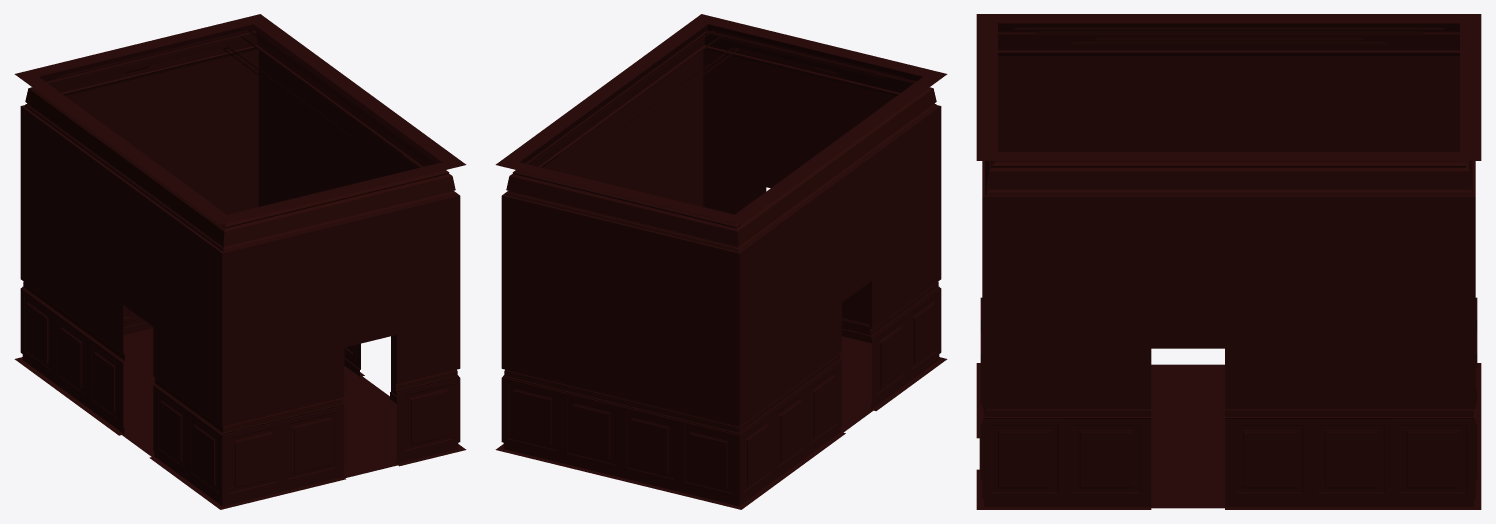
File: 3door_1.FBX
3 renders of one model, left to right at view 1: azimuth 30°, elevation 25°; view 2: azimuth 150°, elevation 25°; view 3: azimuth 270°, elevation 25°, orthographic. The views are drawn at different scales.
Parts seen in each view (by area): view 1: walls, floor, ceiling; view 2: walls, floor, ceiling; view 3: walls, floor, ceiling.
Part boxes in pixels (<box>): walls: <box>14,14,466,509</box>; floor: <box>19,328,461,508</box>; ceiling: <box>56,30,424,159</box>; walls: <box>495,14,947,509</box>; floor: <box>500,336,942,508</box>; ceiling: <box>537,30,905,159</box>; walls: <box>976,14,1481,509</box>; floor: <box>979,364,1478,508</box>; ceiling: <box>1013,27,1444,44</box>.
Size of the model in its own units: 160 by 232 by 192.
